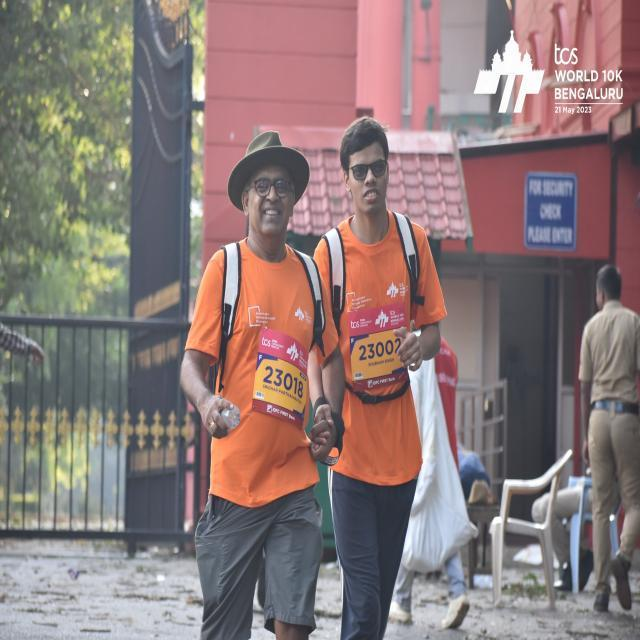dorsal: (256, 323, 308, 430), (348, 306, 406, 385)
